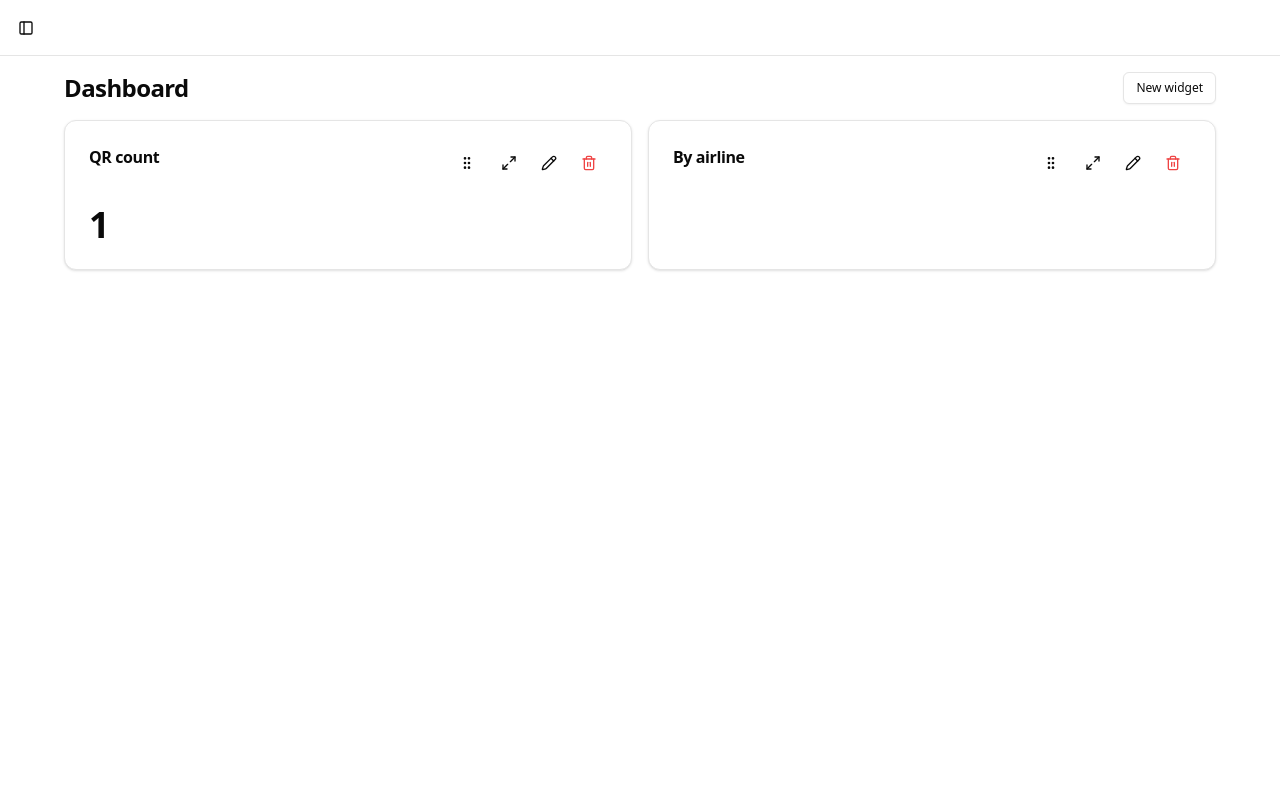
Test: DashboardPage › reverts to the last server-confirmed layout (not the page-load layout) after two successful saves then a failed one
Click the button named "Resize QR count": (509,163) [491,145,527,181]
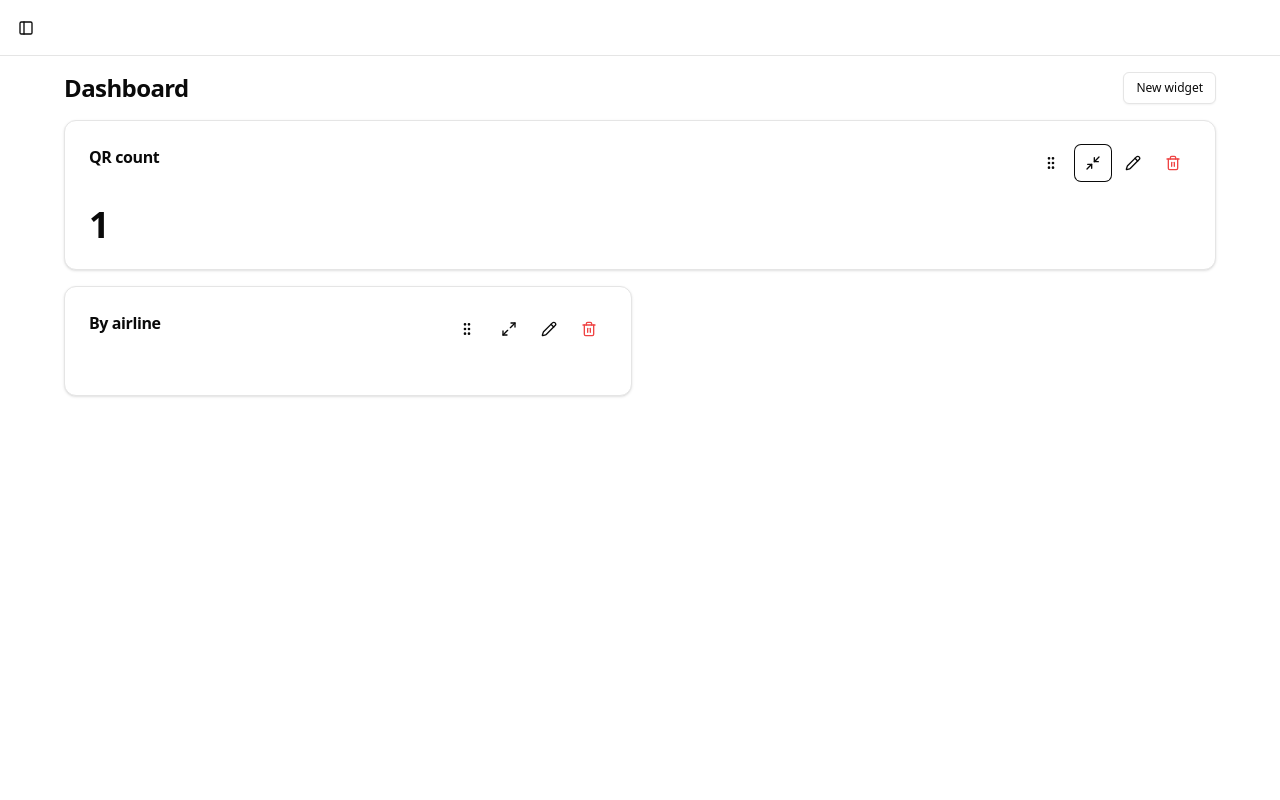
Expected: the button named "Resize QR count" has attribute title="Small", [1075,145,1111,181]
Click the button named "Resize By airline": (509,329) [491,311,527,347]
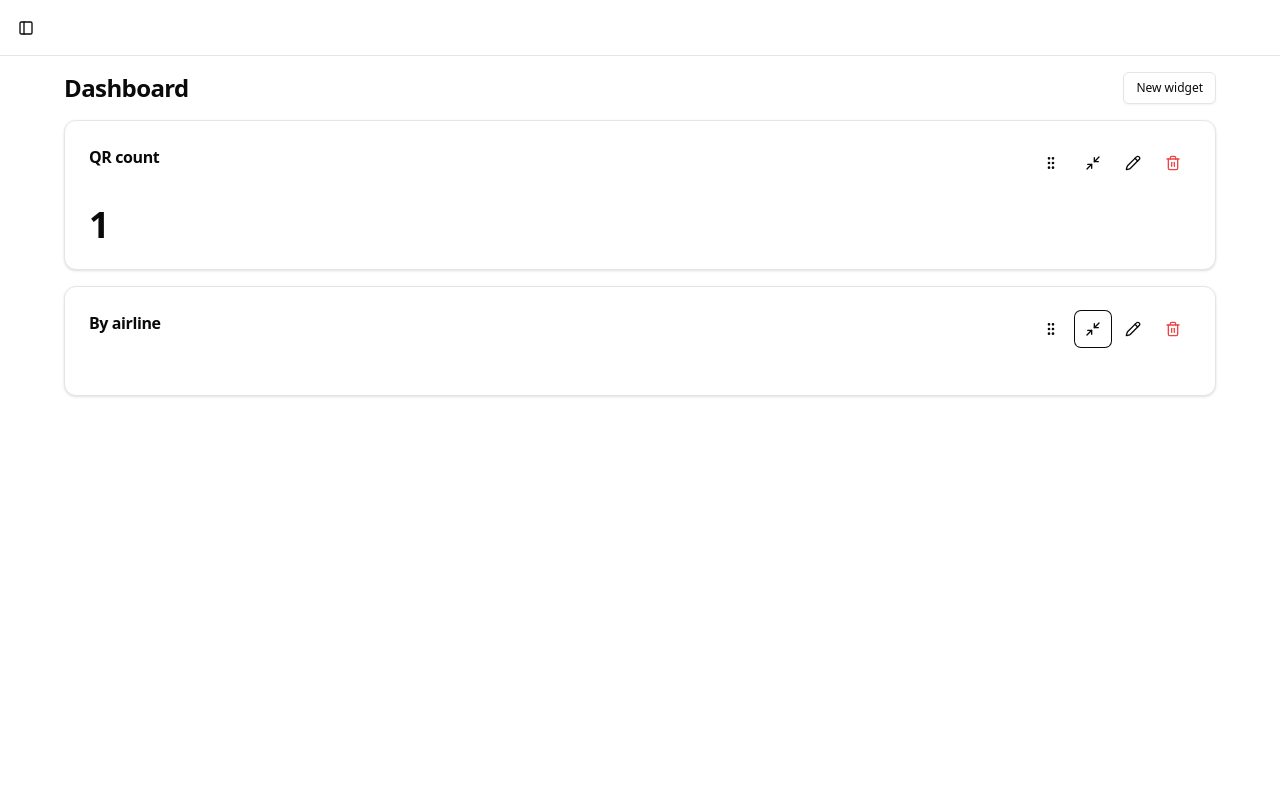
Expected: the button named "Resize By airline" has attribute title="Small", [1075,311,1111,347]
Click the button named "Resize QR count": (1093,163) [1075,145,1111,181]
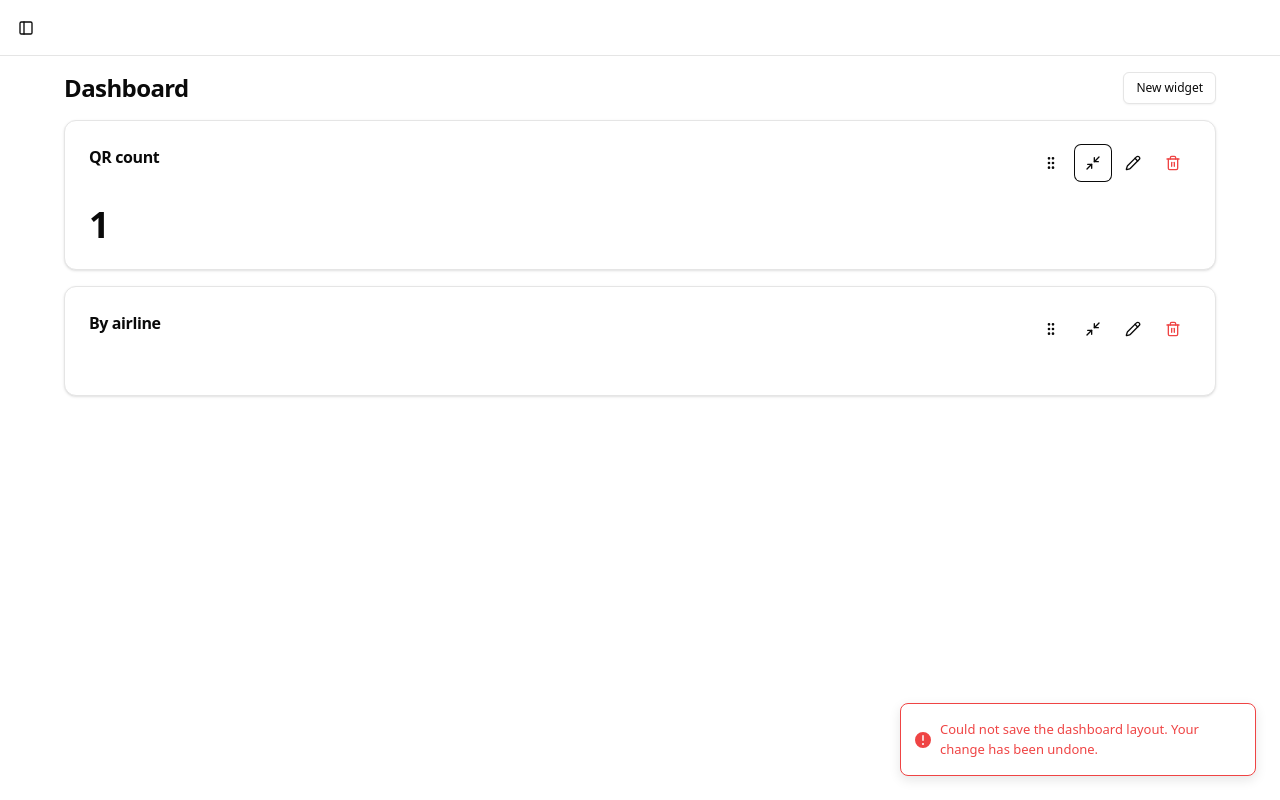
Expected: the text "Could not save" is shown, [940,720,1199,758]
